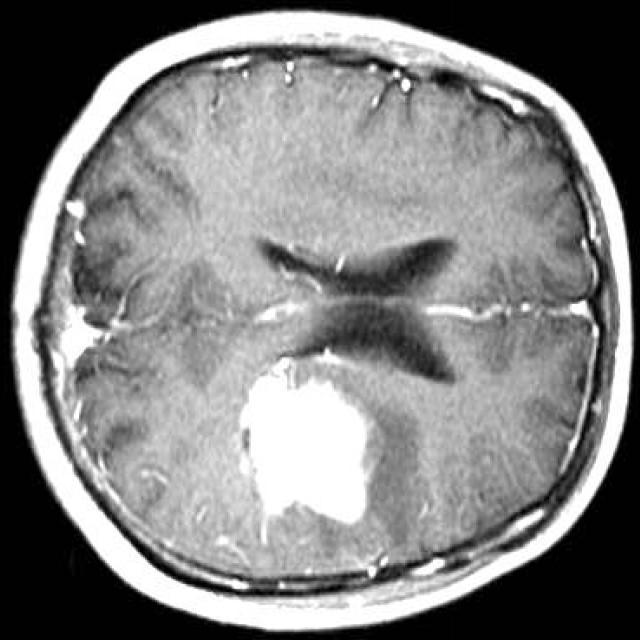tumor: (239, 357, 376, 523)
